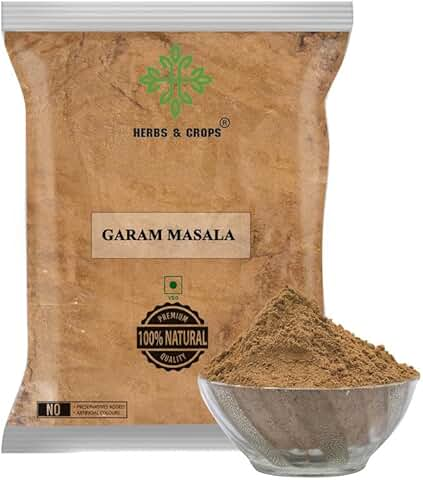Garamasala: (2, 4, 420, 480)
